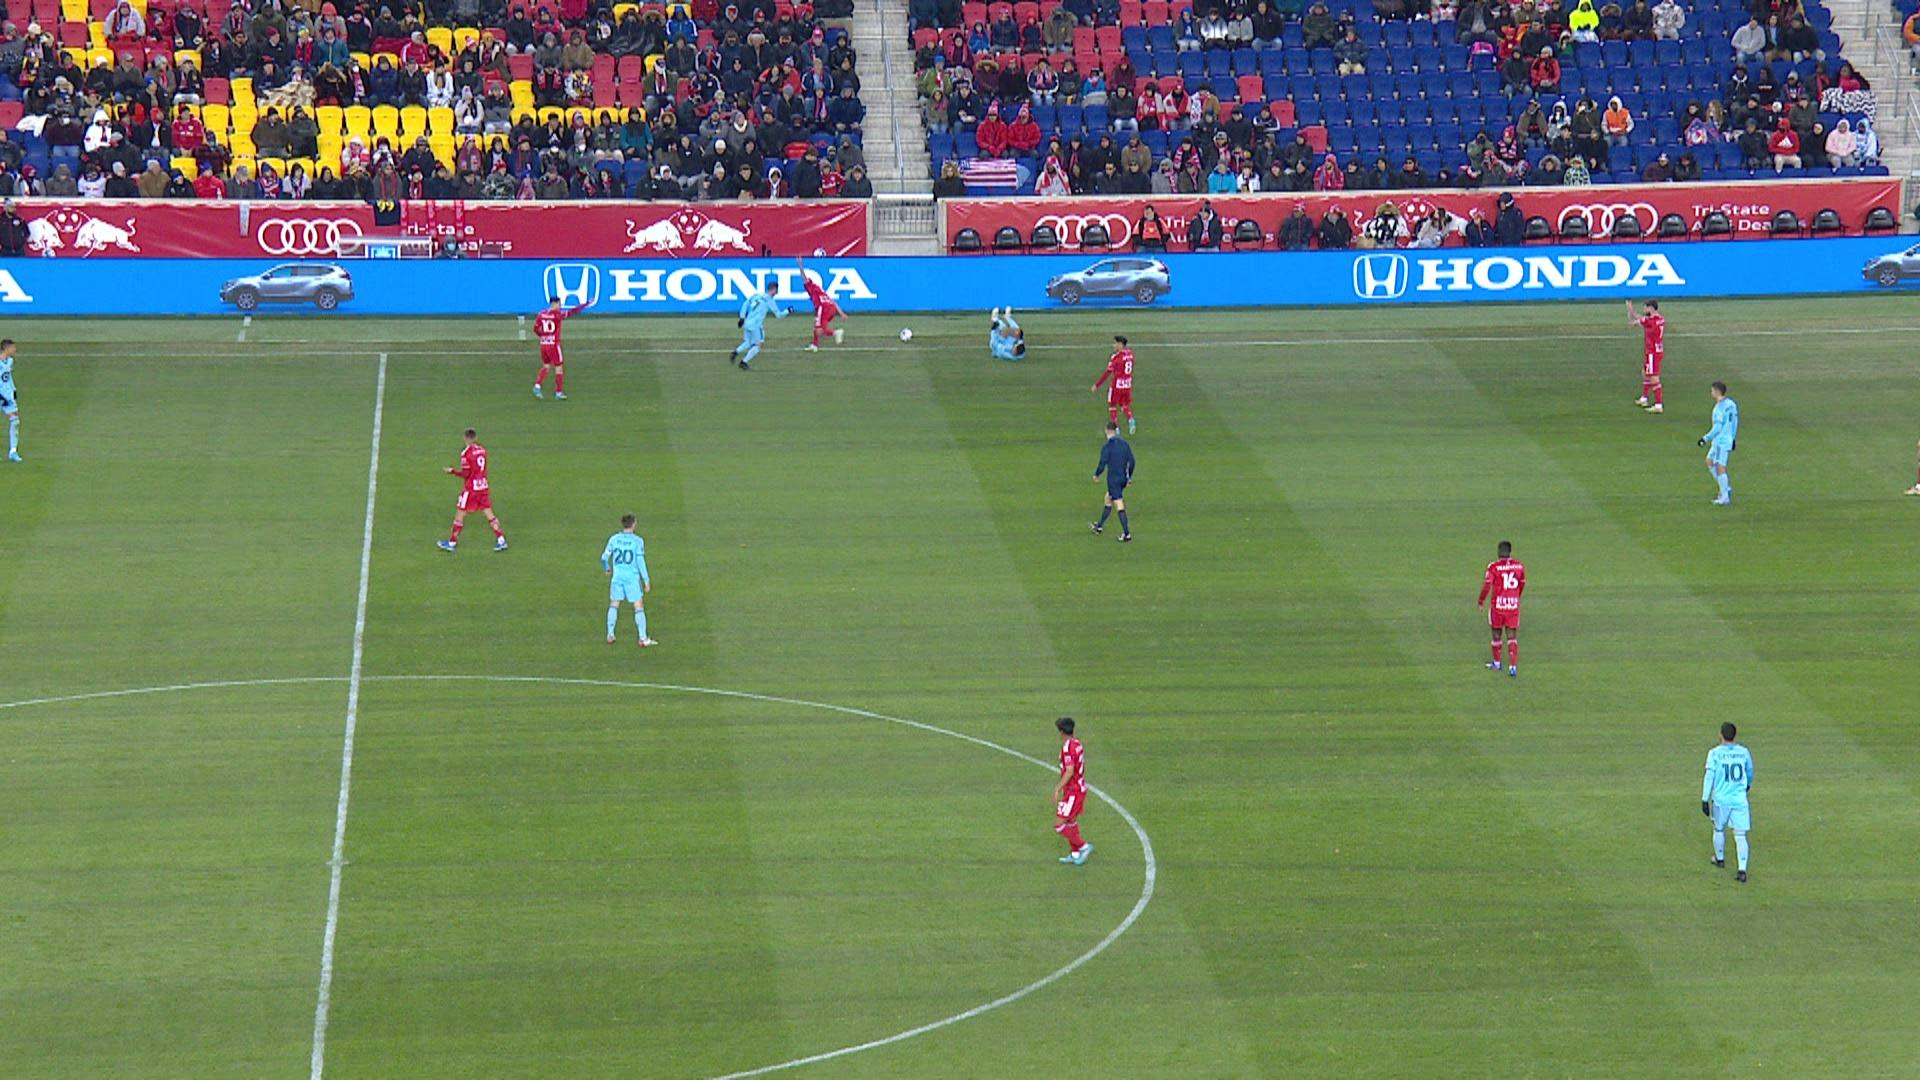football: (899, 327, 914, 343)
